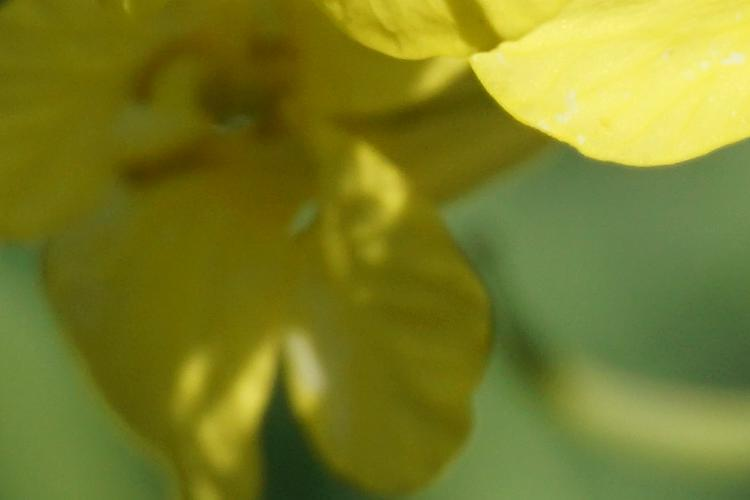yellow: (16, 5, 515, 486)
